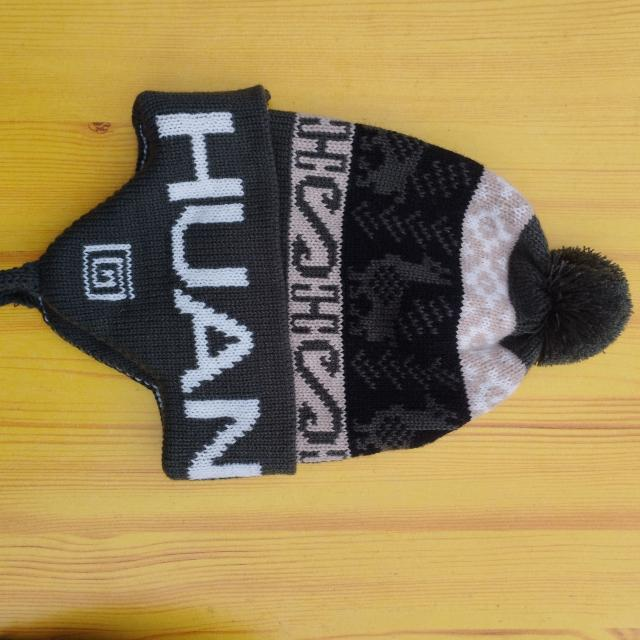Gorro: (1, 84, 633, 481)
